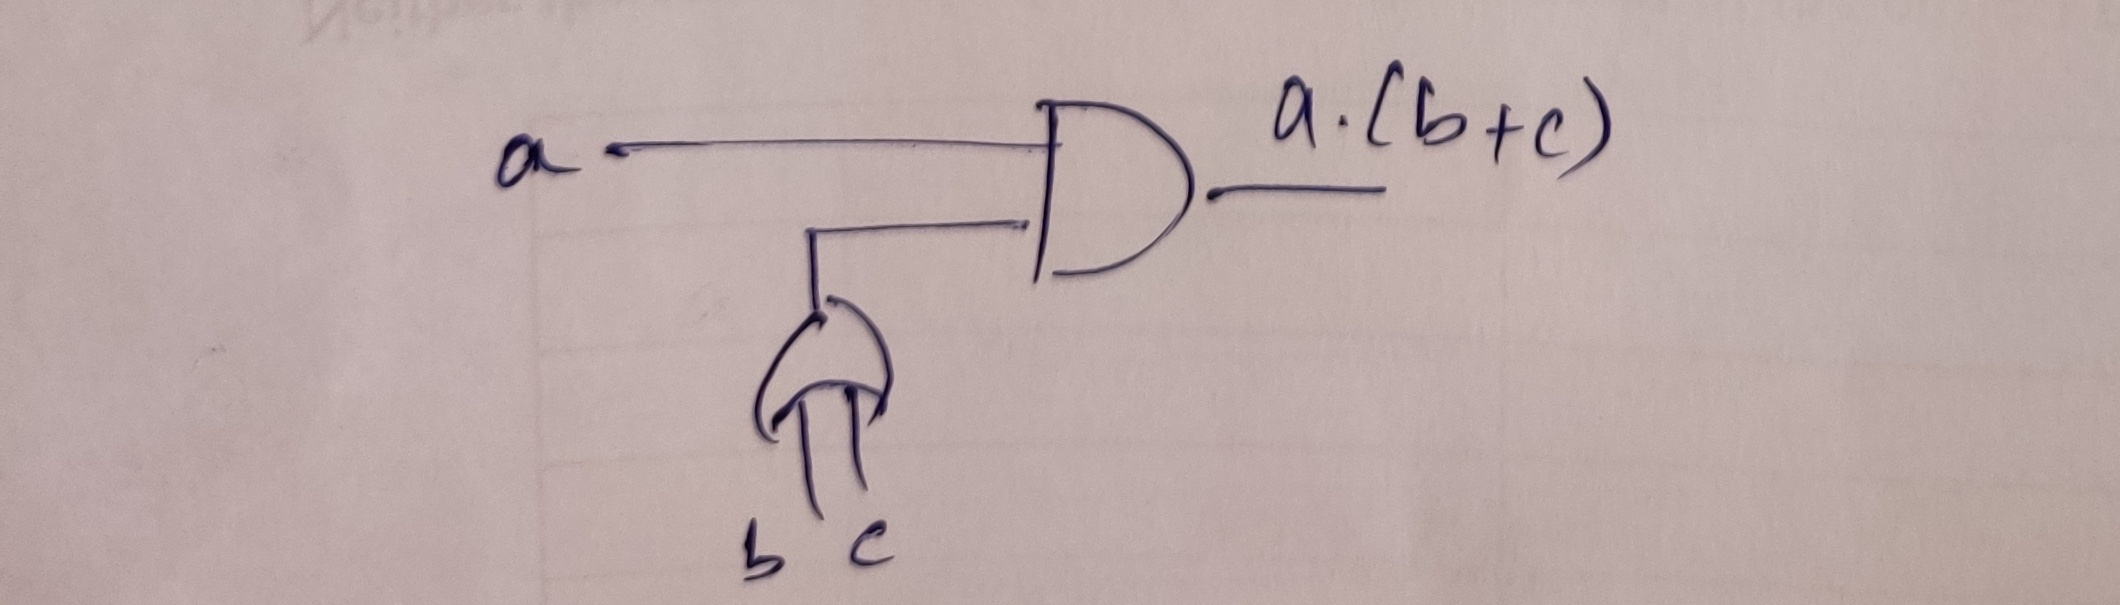and: (988, 76, 1244, 329)
or: (699, 279, 957, 460)
